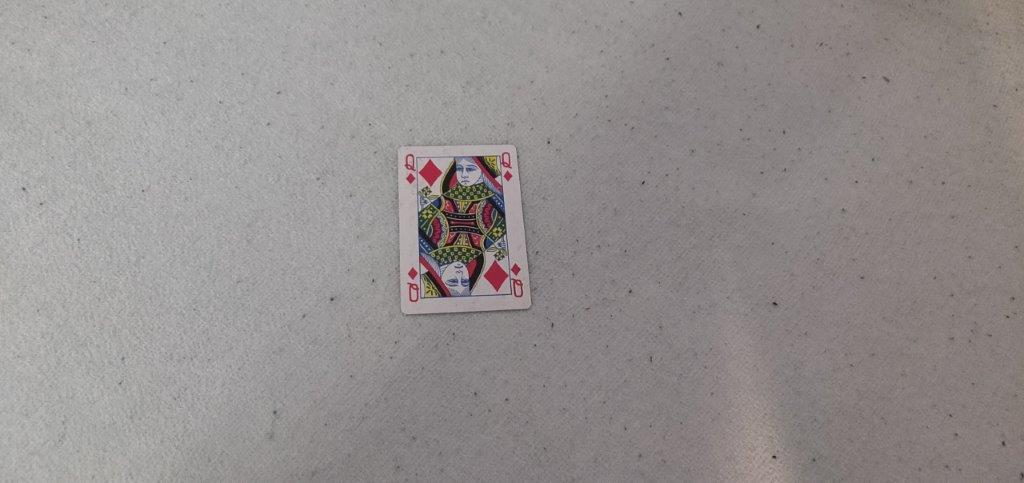QD: (497, 148, 516, 186), (399, 150, 418, 187)
